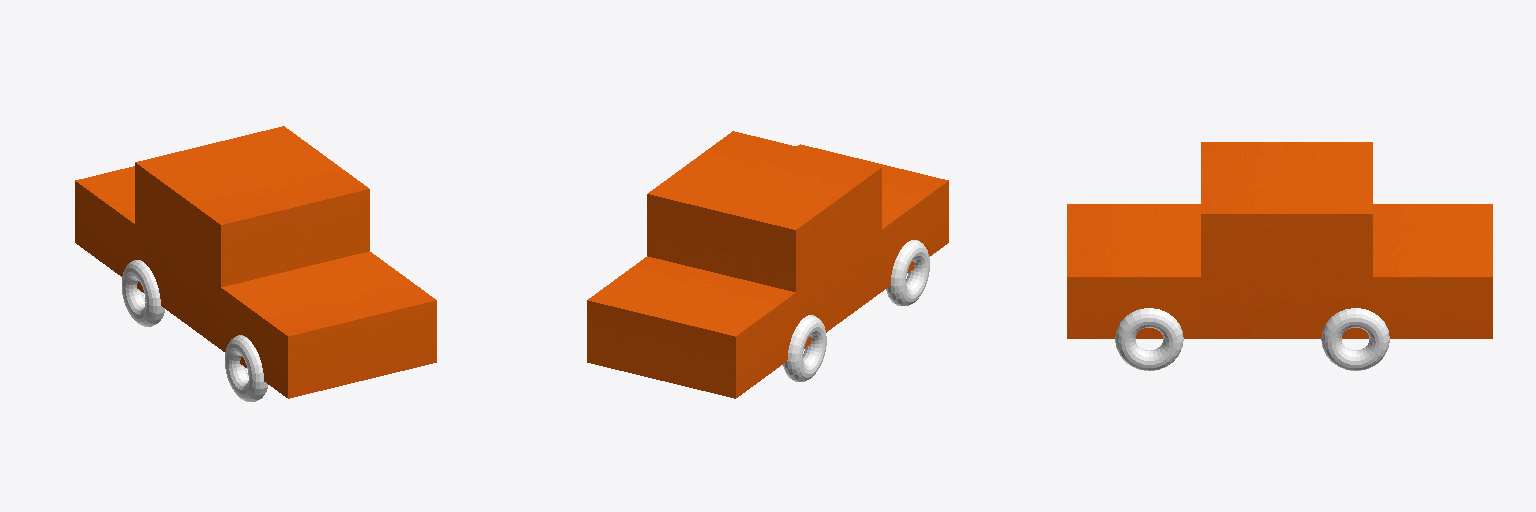
3 views of the same model, side by side, from view 1: azimuth 30°, elevation 25°; view 2: azimuth 150°, elevation 25°; view 3: azimuth 270°, elevation 25° (orthographic).
Visible parts, largest first — view 1: Cube, Cube (2), Cube (1), Torus (1), Torus; view 2: Cube, Cube (1), Cube (2), Torus, Torus (1); view 3: Cube, Cube (2), Cube (1), Torus (2), Torus (3).
Boxes of the visible parts, <box> form: Cube: <box>135,126,369,347</box>; Cube (2): <box>219,251,436,398</box>; Cube (1): <box>75,166,143,292</box>; Torus (1): <box>225,335,267,401</box>; Torus: <box>122,260,164,326</box>; Cube: <box>647,131,881,347</box>; Cube (1): <box>587,256,804,398</box>; Cube (2): <box>797,144,948,291</box>; Torus: <box>783,315,826,381</box>; Torus (1): <box>886,240,929,305</box>; Cube: <box>1201,142,1372,338</box>; Cube (2): <box>1067,204,1203,338</box>; Cube (1): <box>1356,204,1492,338</box>; Torus (2): <box>1115,308,1183,370</box>; Torus (3): <box>1321,308,1389,370</box>.
Size of the model in its own units: 5.6 by 5 by 12.4.
Materials: 2 (1 with a texture image).